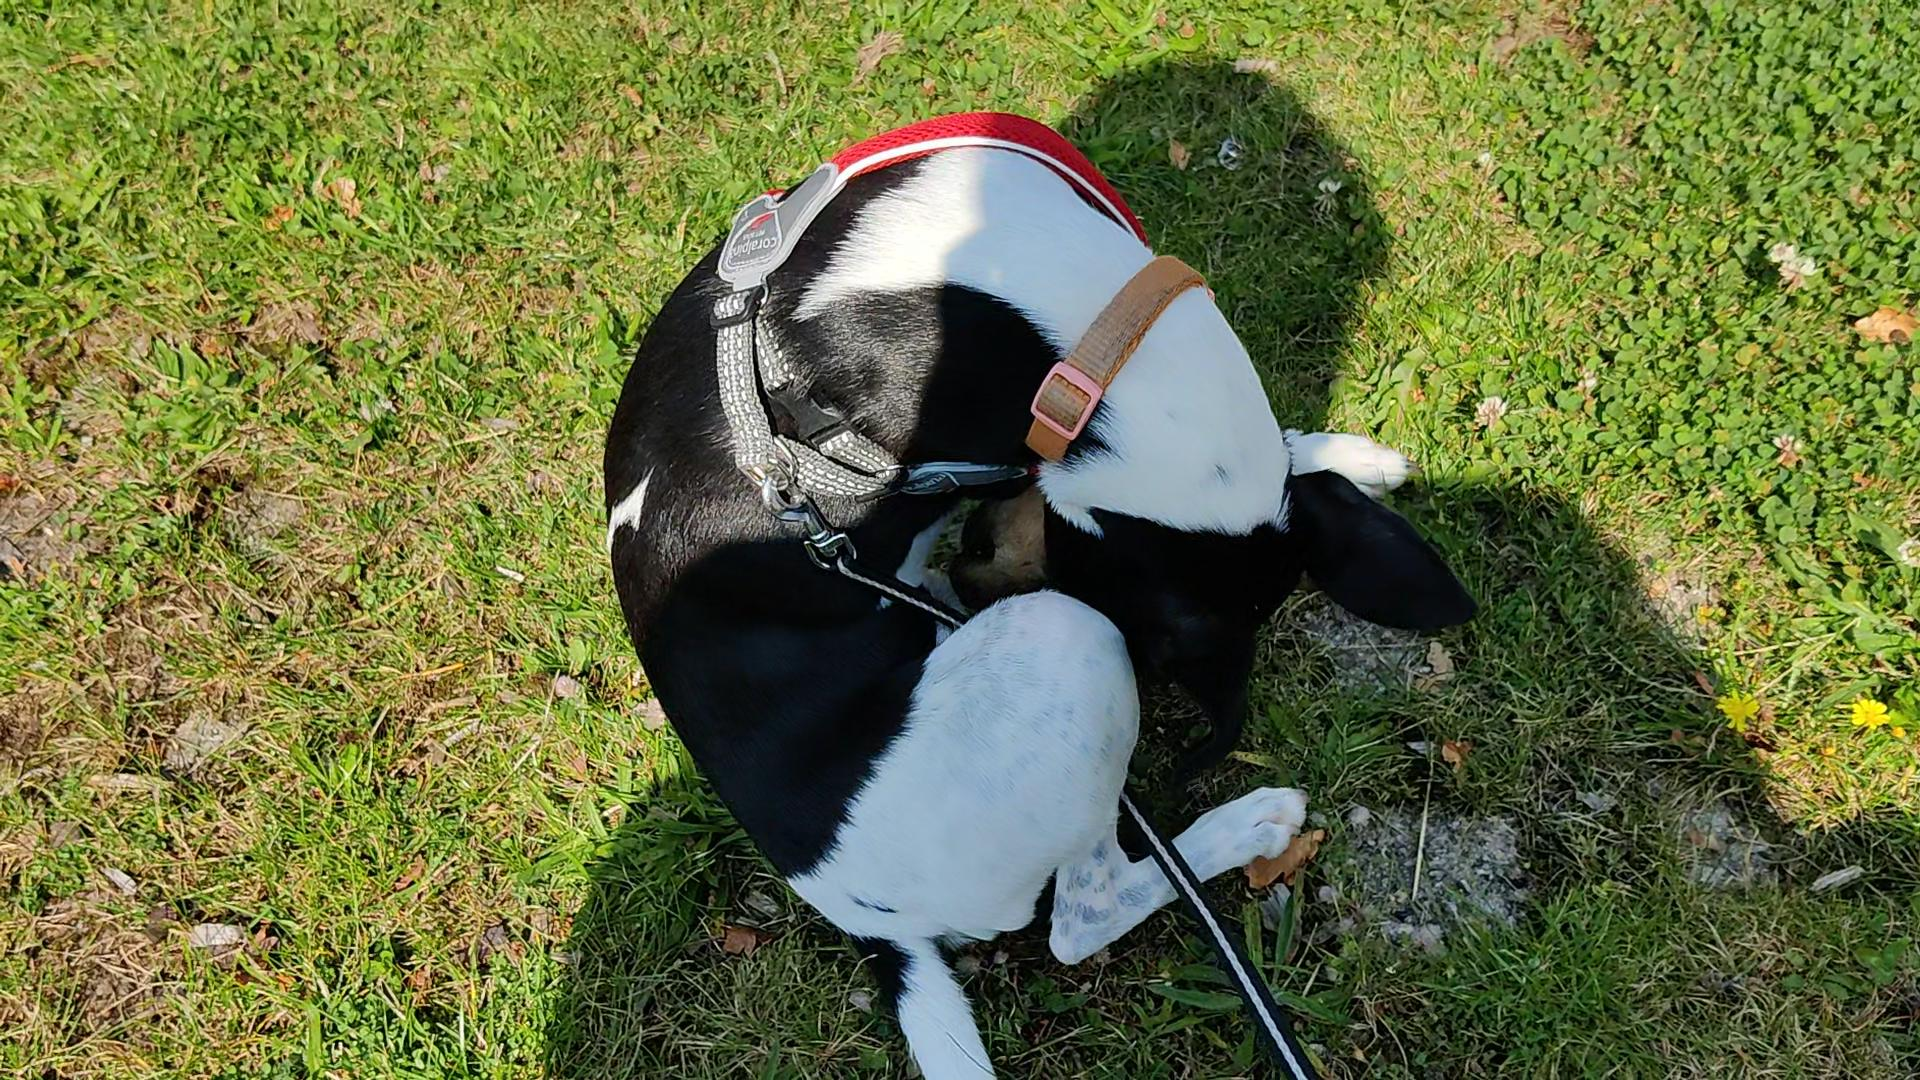Dog: (596, 102, 1490, 1079)
